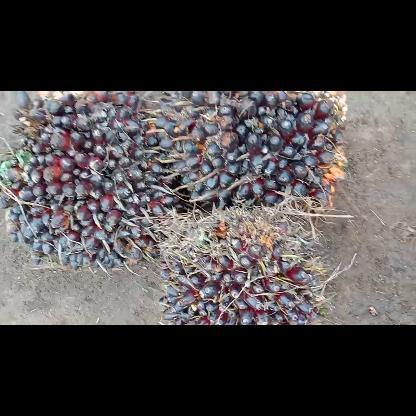TBS mentah: (0, 91, 181, 272), (150, 90, 350, 224), (158, 204, 324, 324)
